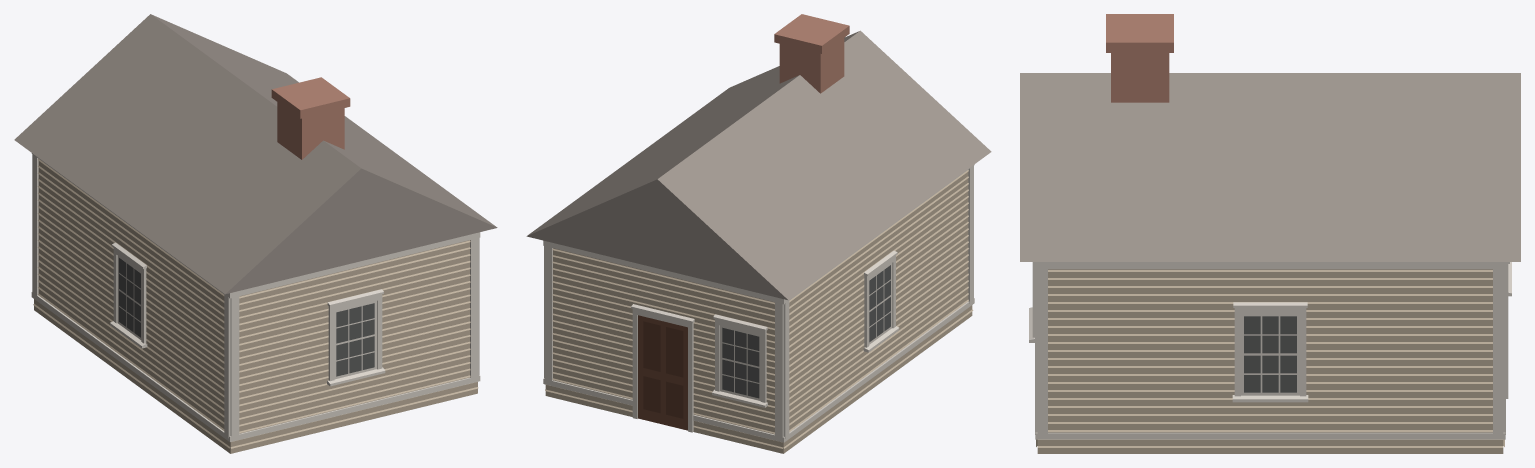
The model's file is inf_tailor_shop__inferred_1835.glb.
The picture shows the model from 3 angles, left to right: view 1: azimuth 30°, elevation 25°; view 2: azimuth 150°, elevation 25°; view 3: azimuth 270°, elevation 25°; orthographic projection. The views are drawn at different scales.
Visible parts, largest first — view 1: inf_tailor_shop__inferred_1835; view 2: inf_tailor_shop__inferred_1835; view 3: inf_tailor_shop__inferred_1835.
Part boxes in pixels (bbox=[...]): inf_tailor_shop__inferred_1835: bbox=[14, 14, 497, 453]; inf_tailor_shop__inferred_1835: bbox=[526, 14, 991, 453]; inf_tailor_shop__inferred_1835: bbox=[1020, 14, 1520, 453].
Size of the model in its own units: 5.38 by 5.62 by 7.21.
